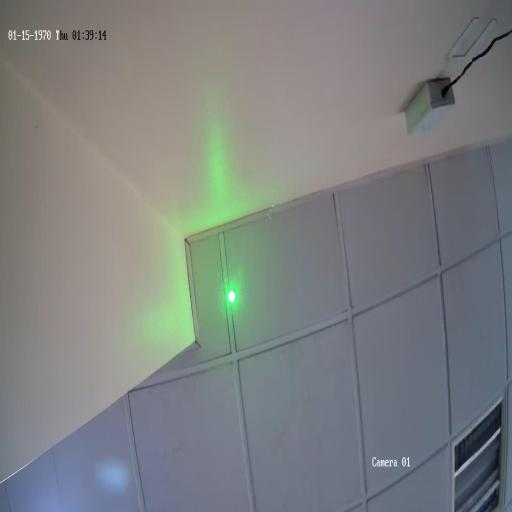laser: (224, 283, 238, 309)
